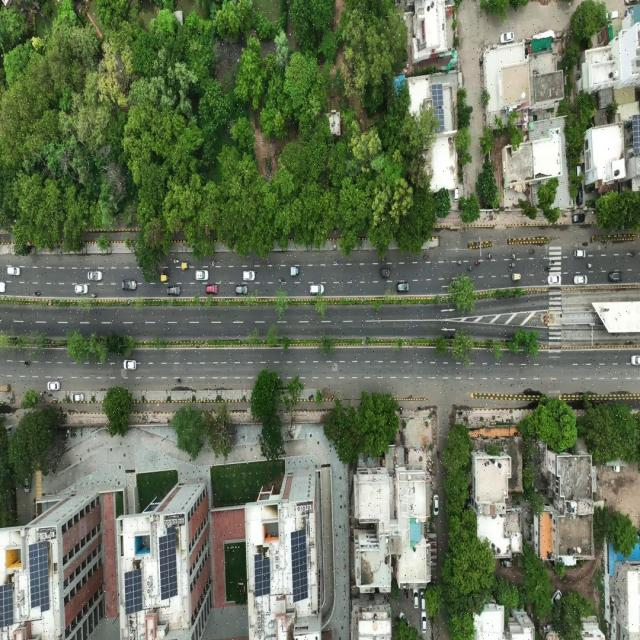3W: (511, 271, 522, 283), (0, 383, 11, 393), (160, 274, 170, 283), (181, 262, 191, 271)
Cars: (309, 283, 325, 296), (121, 279, 138, 291), (608, 270, 625, 282), (123, 358, 138, 371), (75, 283, 90, 295), (88, 270, 103, 282), (573, 274, 588, 286), (47, 380, 62, 392), (546, 274, 562, 285), (413, 587, 420, 612), (195, 270, 209, 282), (242, 270, 256, 282), (433, 493, 440, 517), (421, 610, 428, 634), (397, 281, 410, 293), (71, 392, 85, 403), (166, 287, 181, 297), (235, 285, 249, 295), (572, 214, 586, 224), (574, 248, 586, 259), (7, 267, 21, 276), (206, 284, 218, 294), (380, 269, 392, 279)
LCV: (290, 265, 301, 277)
M2W: (455, 259, 464, 266), (23, 360, 32, 367), (209, 259, 216, 267), (422, 253, 430, 260), (333, 258, 340, 265), (529, 248, 536, 255), (586, 262, 593, 269), (629, 251, 636, 258), (176, 376, 183, 383), (172, 258, 180, 264), (33, 291, 42, 296), (467, 264, 473, 271), (474, 260, 481, 266), (486, 254, 493, 260), (511, 253, 517, 260), (549, 259, 556, 265), (544, 265, 551, 271), (90, 293, 98, 298), (278, 278, 286, 283), (508, 263, 516, 267)
